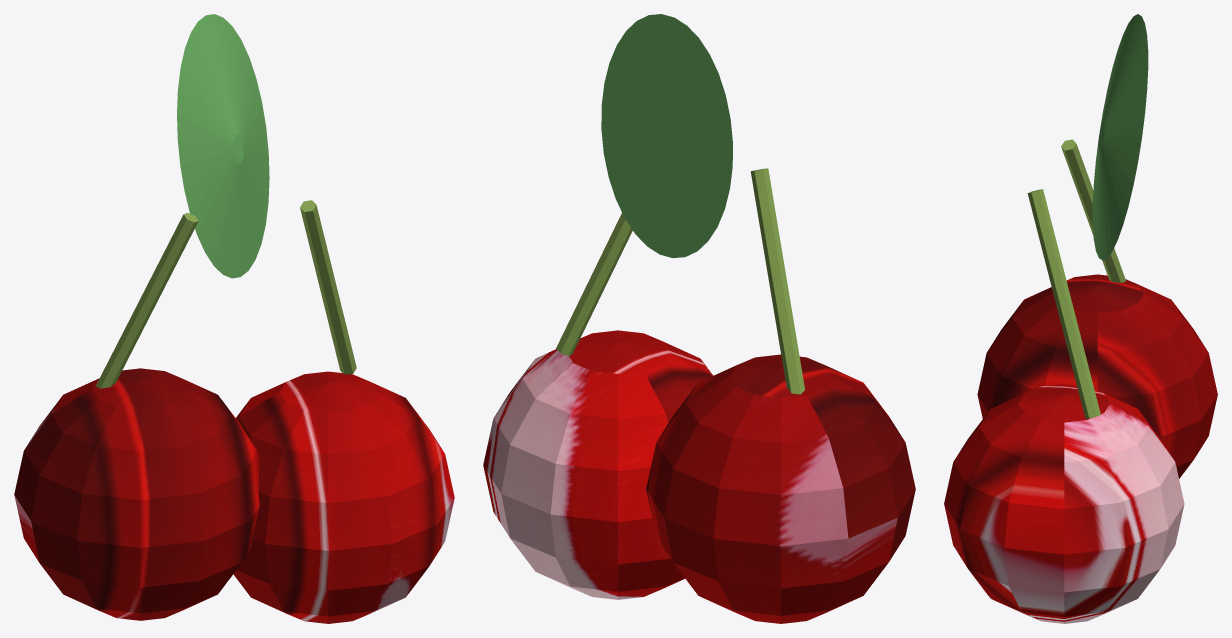
Rendered from cherry.glb.
3 views of the same model, side by side, from view 1: azimuth 30°, elevation 25°; view 2: azimuth 150°, elevation 25°; view 3: azimuth 270°, elevation 25° (orthographic). The views are drawn at different scales.
Parts seen in each view (by area): view 1: Cherry; view 2: Cherry; view 3: Cherry.
Part boxes in pixels (box(x1,y1,x2,y2)): Cherry: box(14, 14, 454, 623); Cherry: box(483, 14, 915, 623); Cherry: box(944, 14, 1217, 623).
Bounding box in the file's own units: 0.64 × 0.9226 × 0.41.
Materials: 3 (1 with a texture image).
